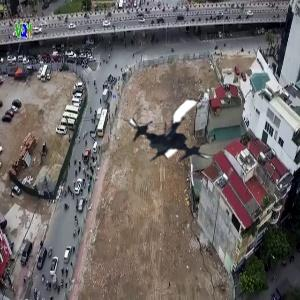drone: (131, 84, 228, 181)
